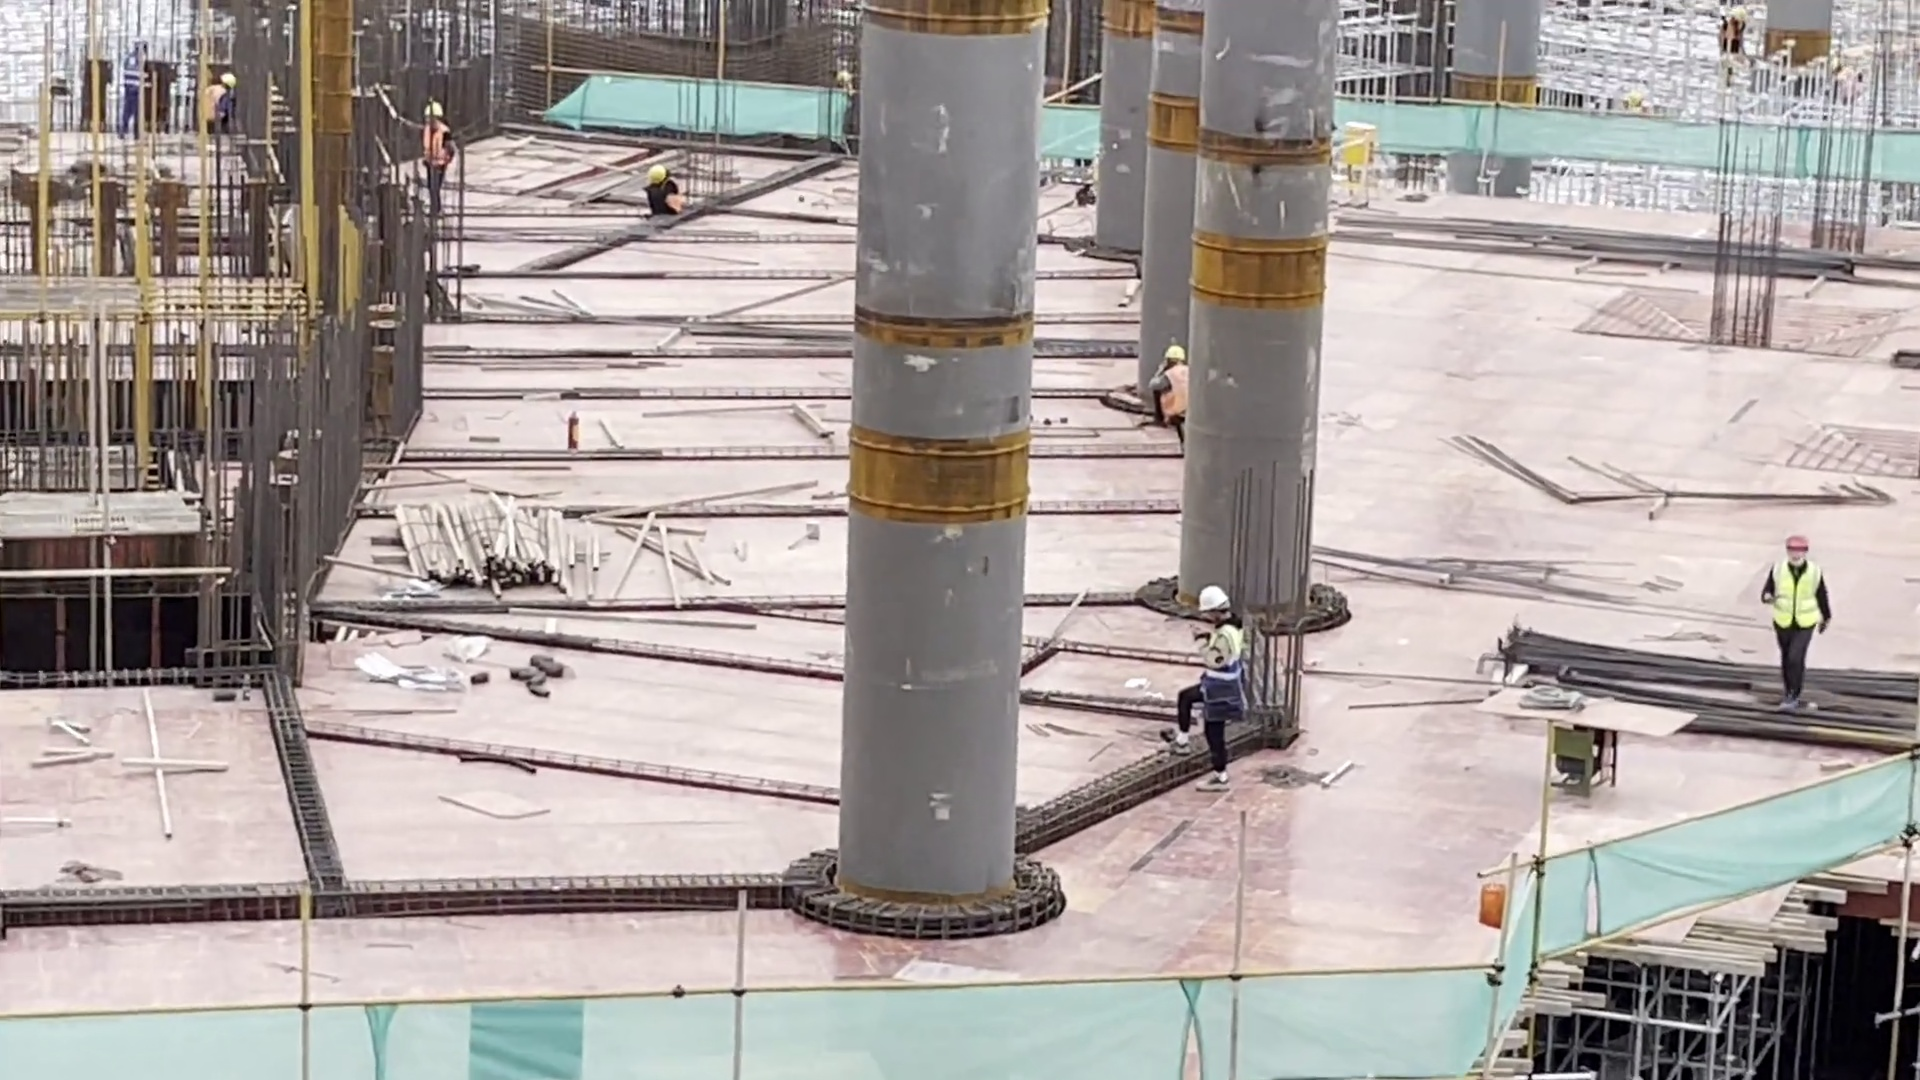helmet: (1196, 585, 1232, 613), (1782, 533, 1811, 556), (1159, 342, 1190, 363), (217, 73, 244, 94), (421, 100, 452, 118), (647, 166, 671, 183)
person: (1162, 577, 1259, 801), (1755, 527, 1843, 721), (398, 85, 466, 237), (1143, 334, 1196, 454), (633, 162, 701, 227), (199, 69, 243, 128), (122, 37, 147, 140)
rebar: (1491, 603, 1920, 753)
scaffold: (392, 508, 626, 609)
vest: (1770, 563, 1826, 635), (1199, 630, 1250, 710), (1154, 368, 1194, 422), (420, 123, 453, 168), (203, 86, 226, 126)
